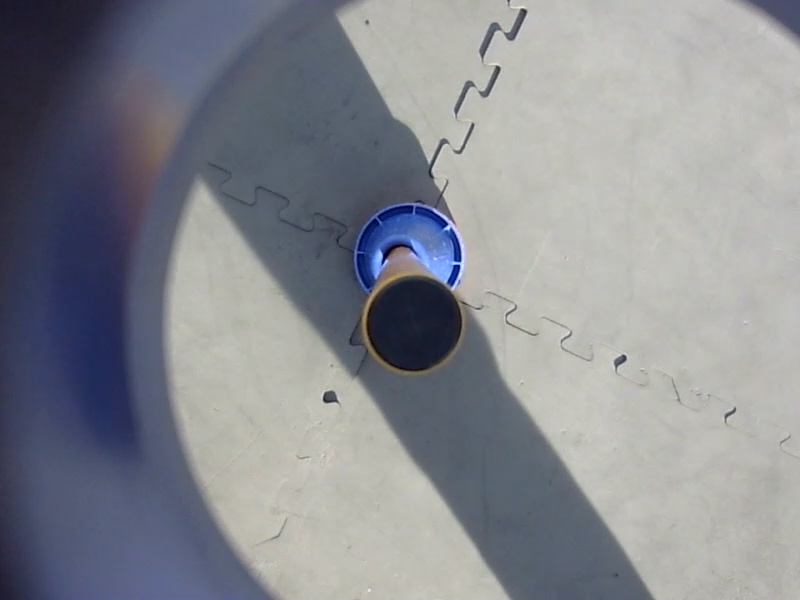tip: (355, 266, 470, 383)
